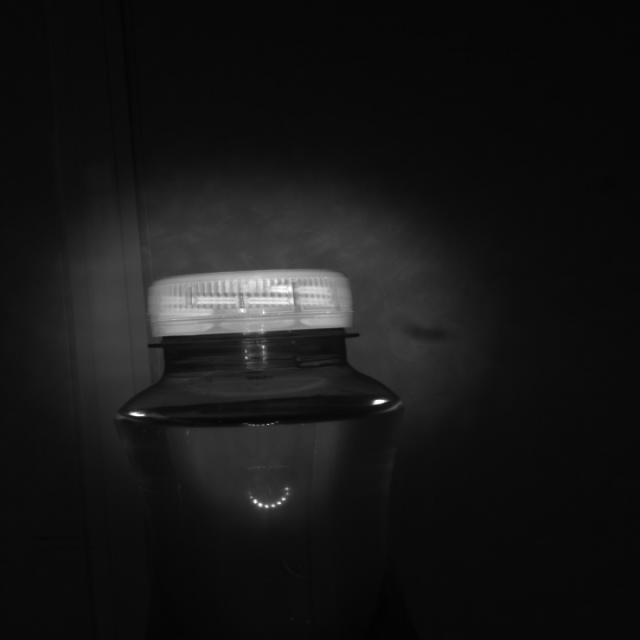Good: (147, 266, 357, 341)
